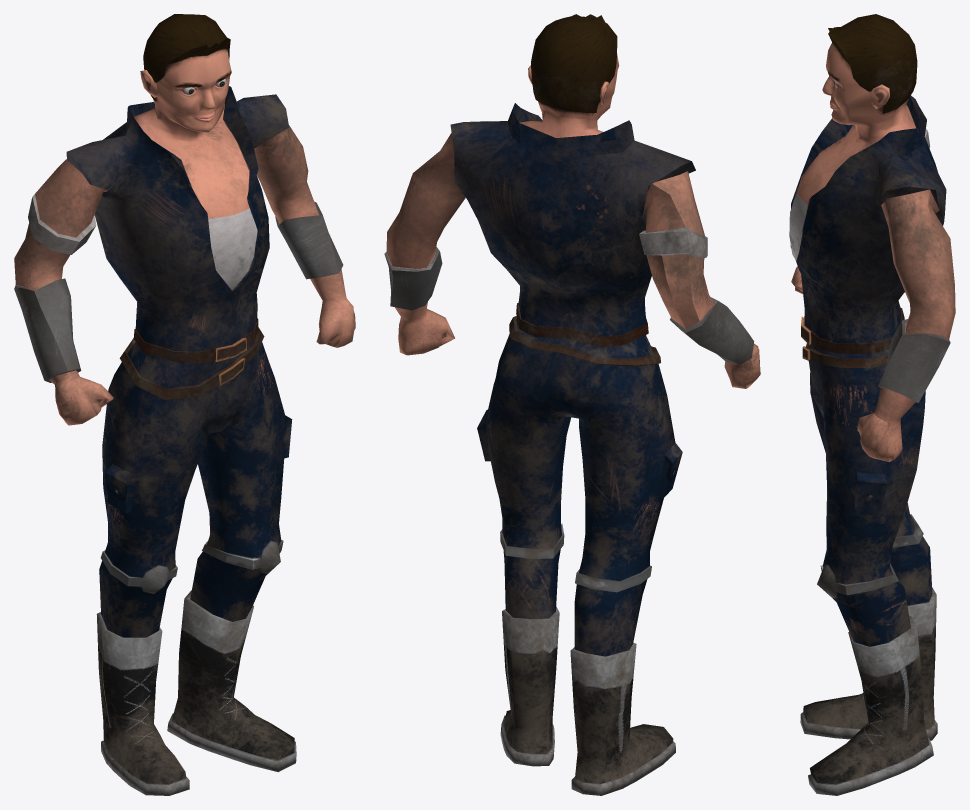
File: Anim_puerta_mal_jugador.0018.obj
3 renders of one model, left to right at view 1: azimuth 30°, elevation 25°; view 2: azimuth 150°, elevation 25°; view 3: azimuth 270°, elevation 25°, orthographic.
Parts seen in each view (by area): view 1: polySurface1; view 2: polySurface1; view 3: polySurface1.
Boxes of the visible parts, left/top/right/bottom form: polySurface1: left=14, top=14, right=355, bottom=795; polySurface1: left=384, top=14, right=760, bottom=795; polySurface1: left=789, top=14, right=955, bottom=795.
Size of the model in its own units: 4.49 by 9.65 by 1.97.
